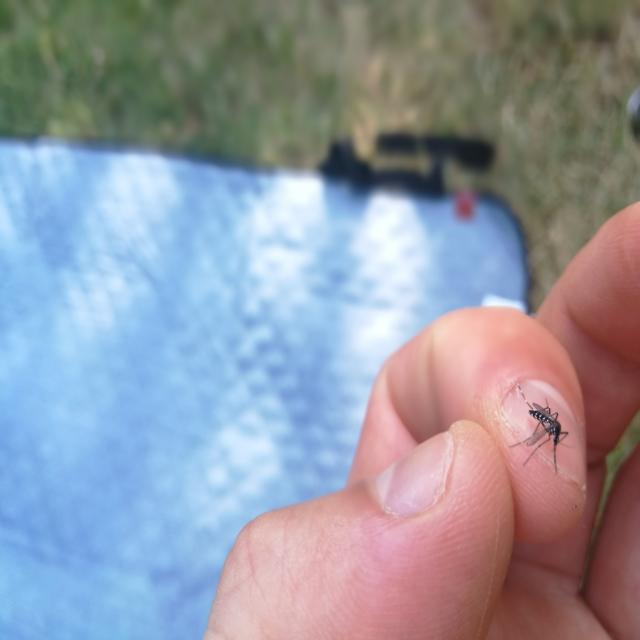albopictus: (504, 380, 576, 478)
